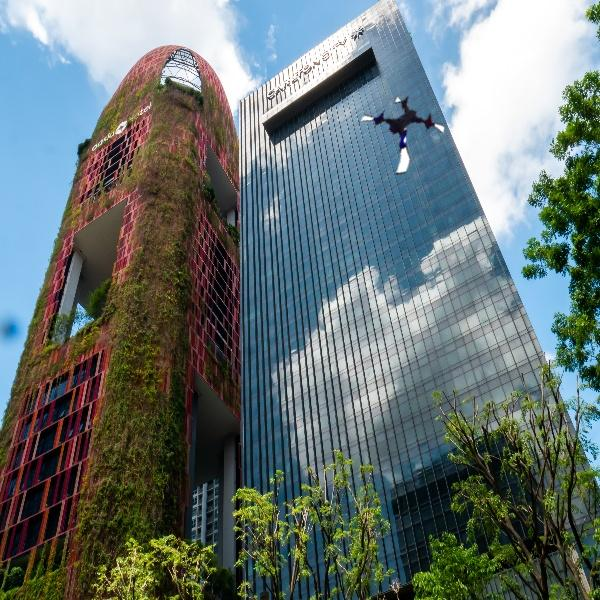drone: (353, 92, 444, 183)
